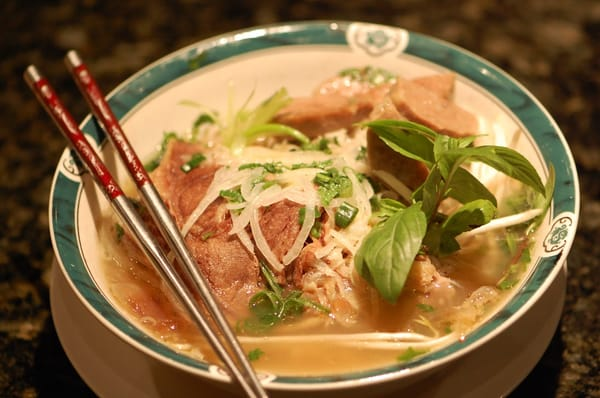curry: (314, 168, 353, 206)
sushi: (123, 46, 577, 387)
